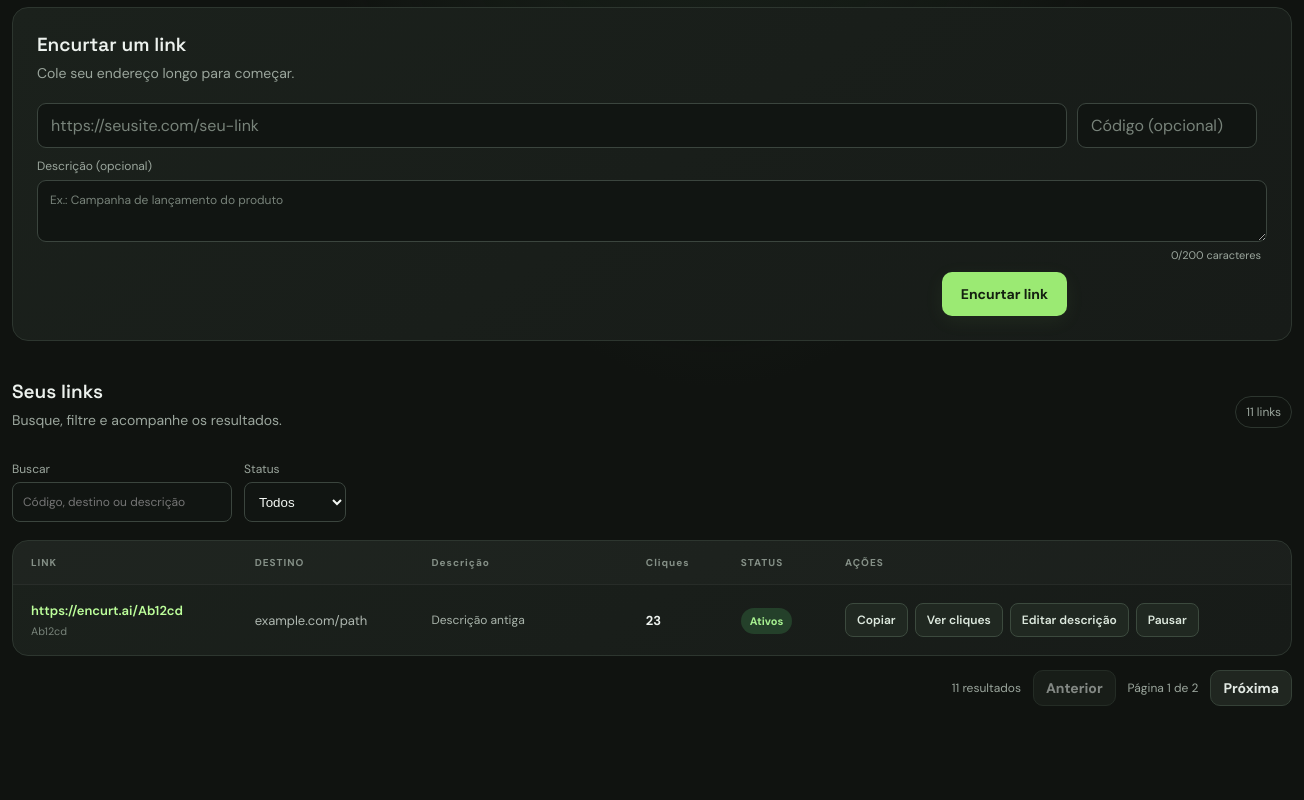
Test: DashboardView › shows a tooltip after the short link is copied
This screenshot has width=1304, height=800.
(page scrolled)
Click the button "Copiar": (876, 620) [845, 603, 908, 637]
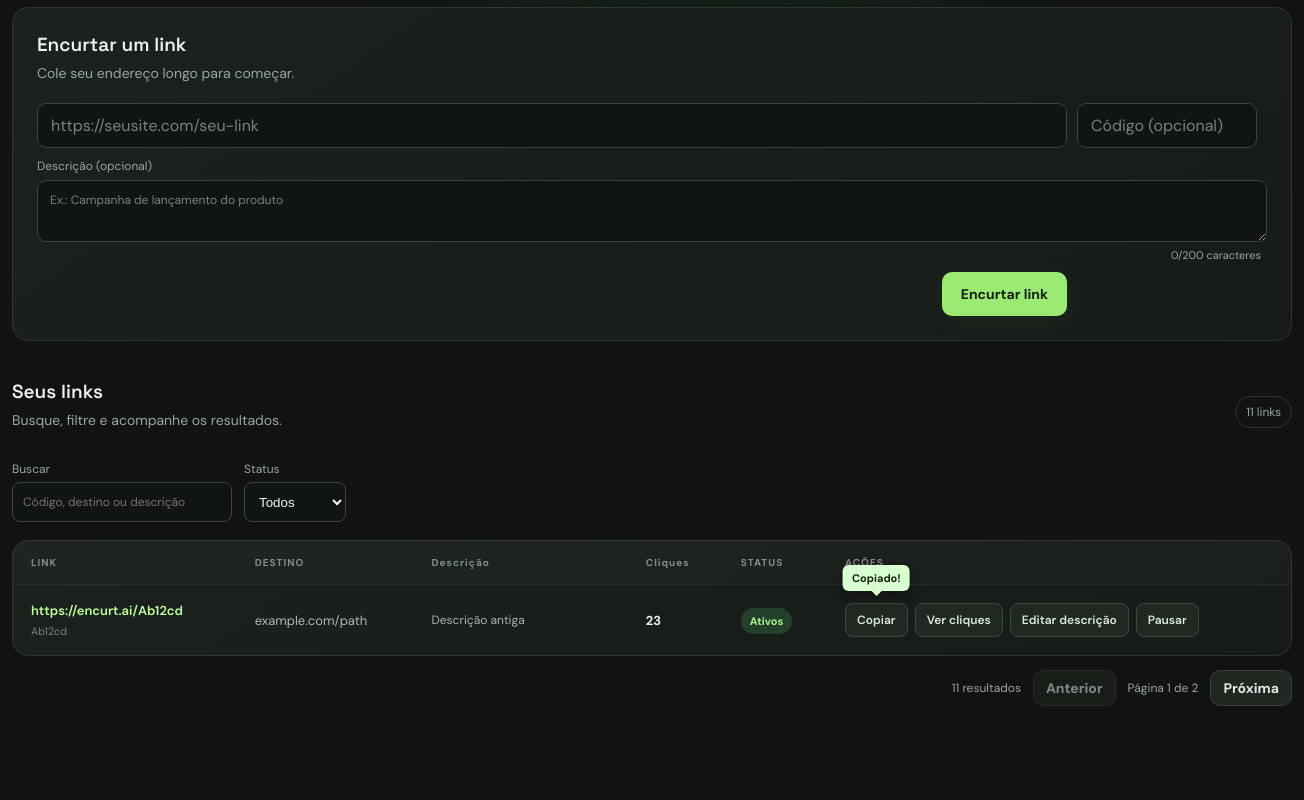
Expected: the message with class "copy-tooltip" reads "Copiado!", [852, 571, 901, 585]
